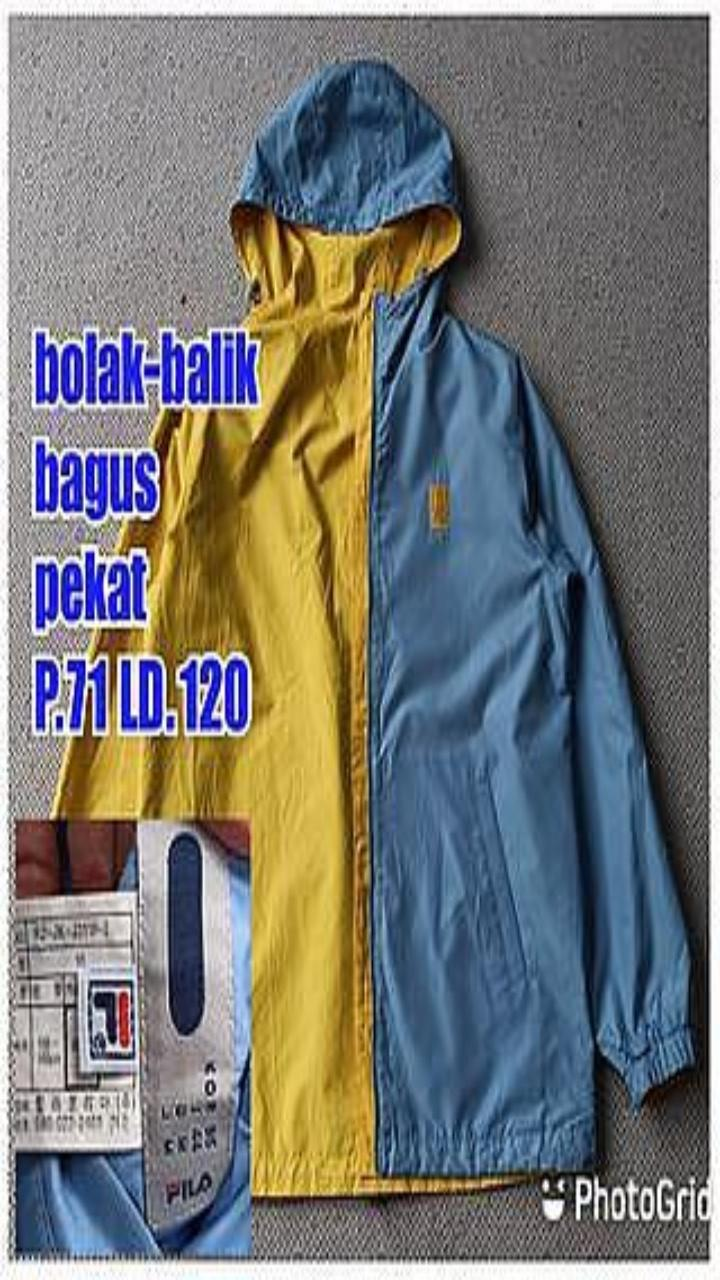Sports_Jacket: (56, 63, 692, 1194)
